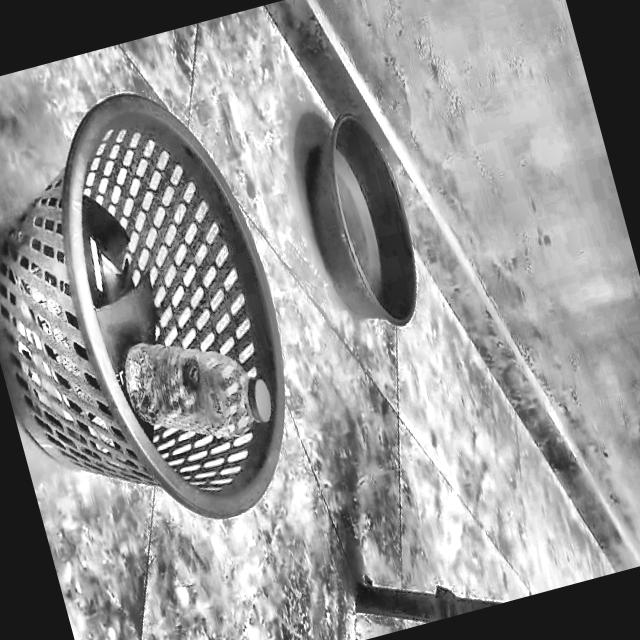Bottle-Disposed: (33, 74, 310, 514)
Plastic-Bottle: (115, 297, 284, 474)
